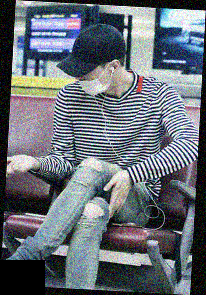mask_weared_incorrect: (75, 64, 110, 98)
